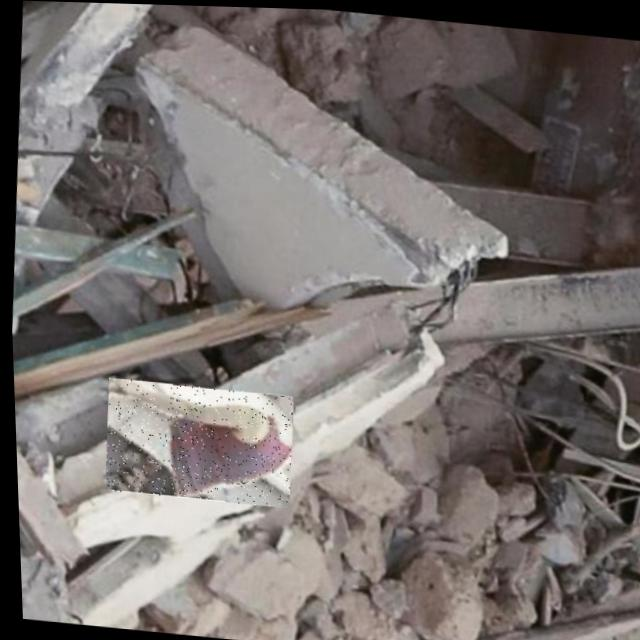Person in Rubble: (97, 376, 292, 506)
